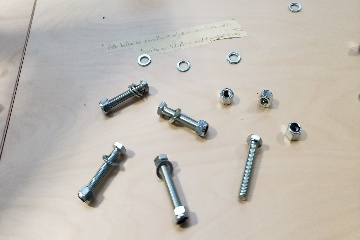Bolt: (235, 133, 264, 201)
FalseAssembly: (75, 141, 129, 205), (152, 154, 194, 227)
FinishedAssembly: (157, 100, 210, 140), (97, 78, 150, 115)
Nut: (285, 121, 301, 142), (258, 89, 274, 108), (220, 88, 234, 106)
Washer: (175, 60, 192, 72), (137, 54, 152, 67), (287, 1, 303, 13), (227, 52, 241, 64)
